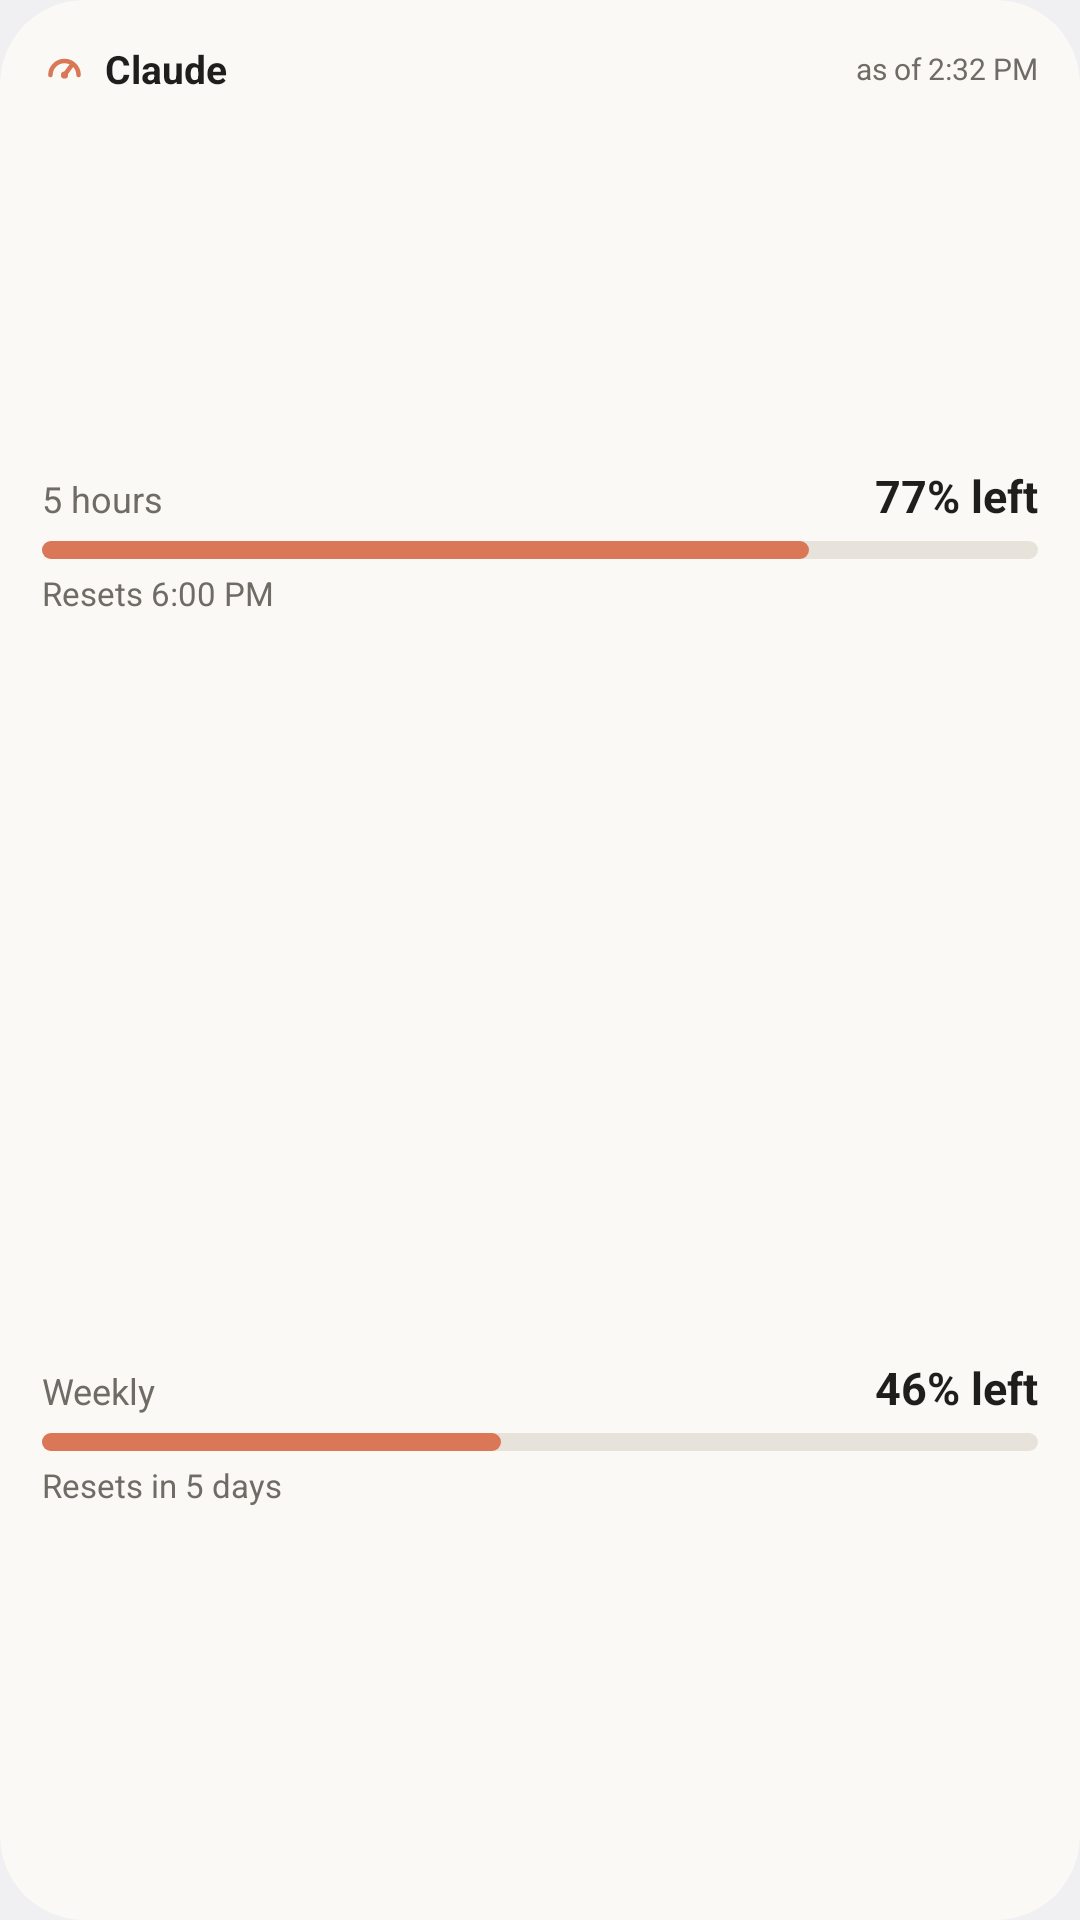

Icons on this 1080px×1920px Android screen, each with its box as (x1, y1, x2, y2):
gauge: (48, 58, 81, 79)
